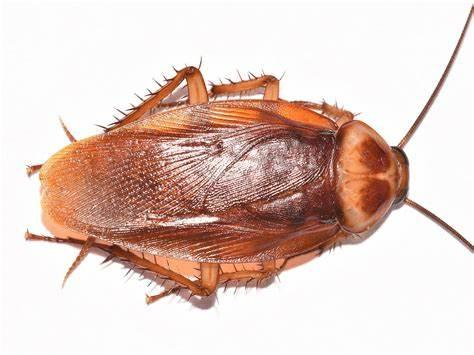cockroach: (20, 62, 410, 310)
